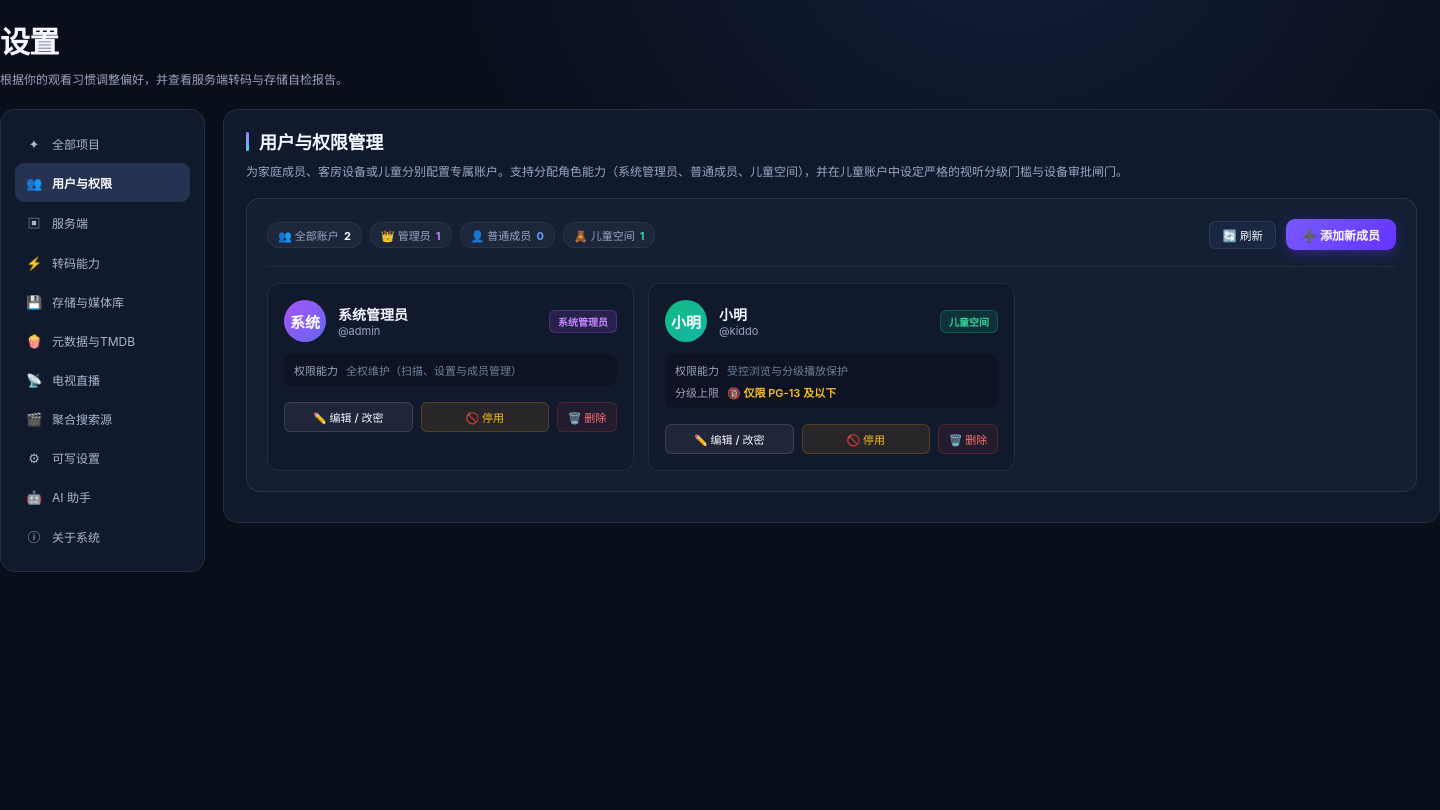
Test: SettingsView › 用户与权限管理：展示用户列表并支持打开添加成员模态窗
Click the button with class "btn-create-user". click: (1341, 235)
box: [1286,219,1396,250]
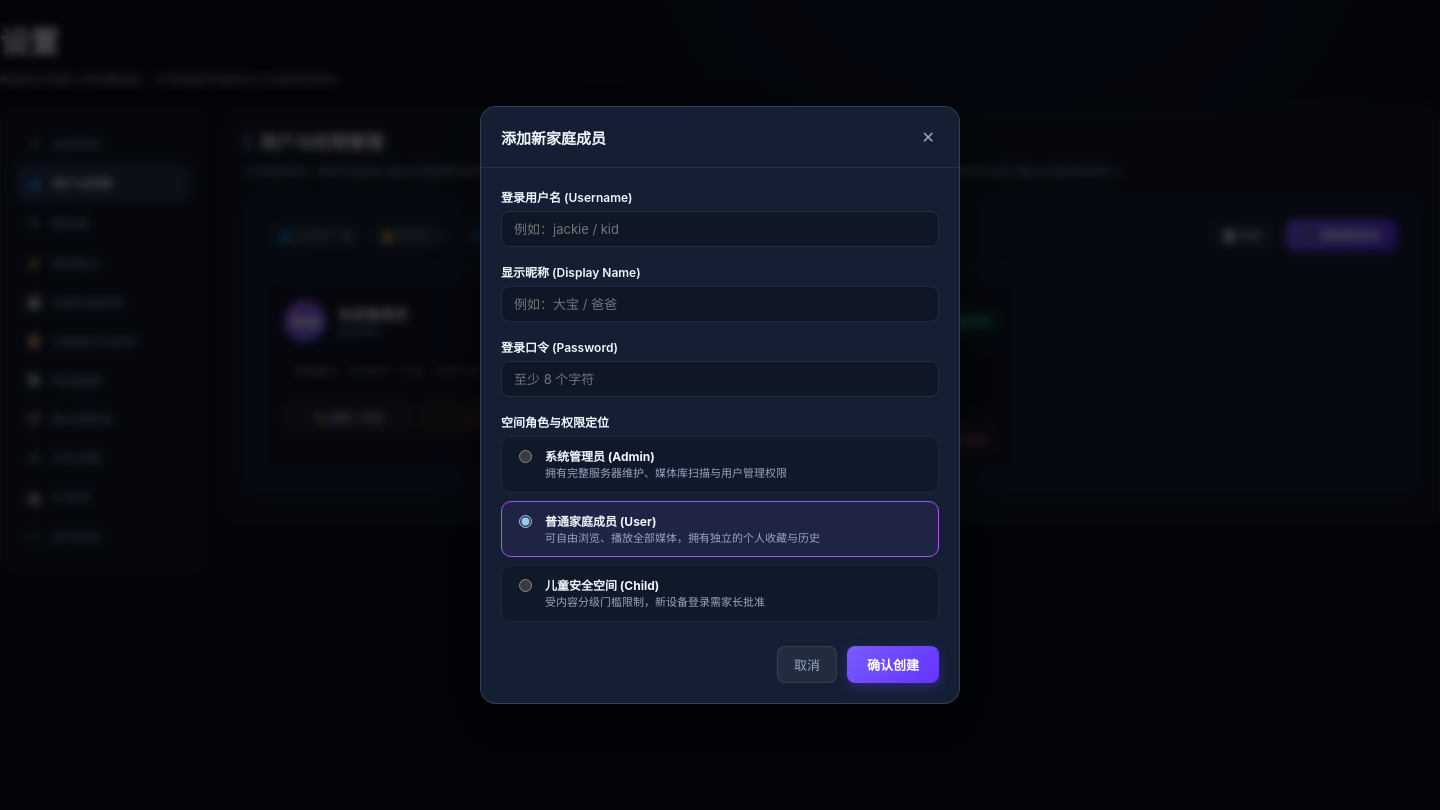
expect the element with class "user-modal-box" is shown: met, box [480,106,960,704]
expect the text "添加新家庭成员" is shown: met, box [501,127,606,148]
